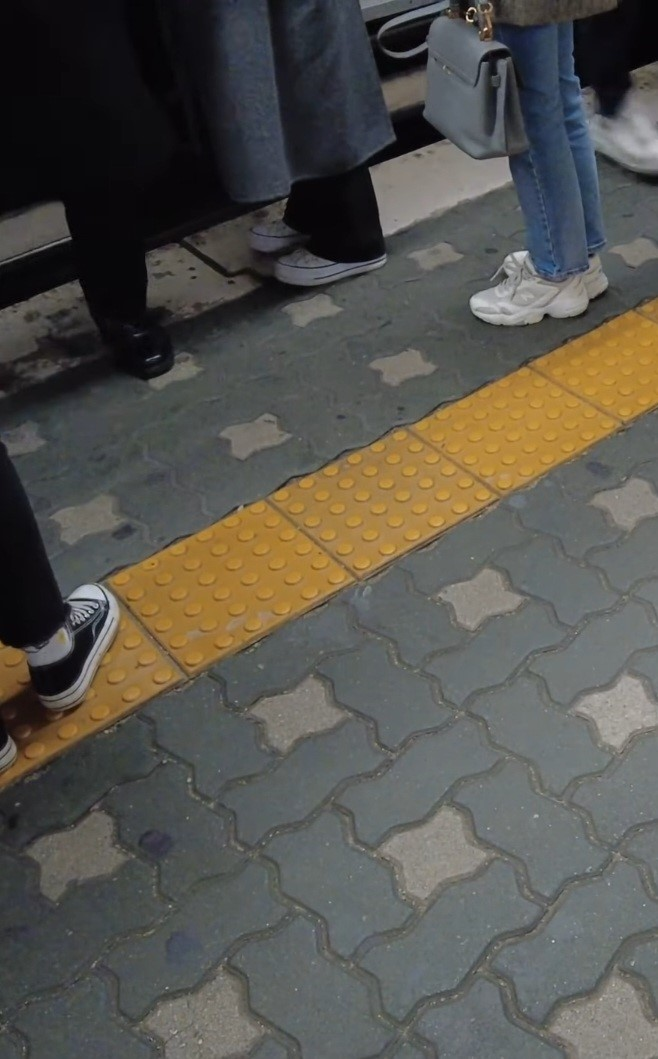warningBlock: (104, 506, 331, 653), (305, 438, 489, 570), (433, 381, 622, 490), (583, 321, 658, 426)
